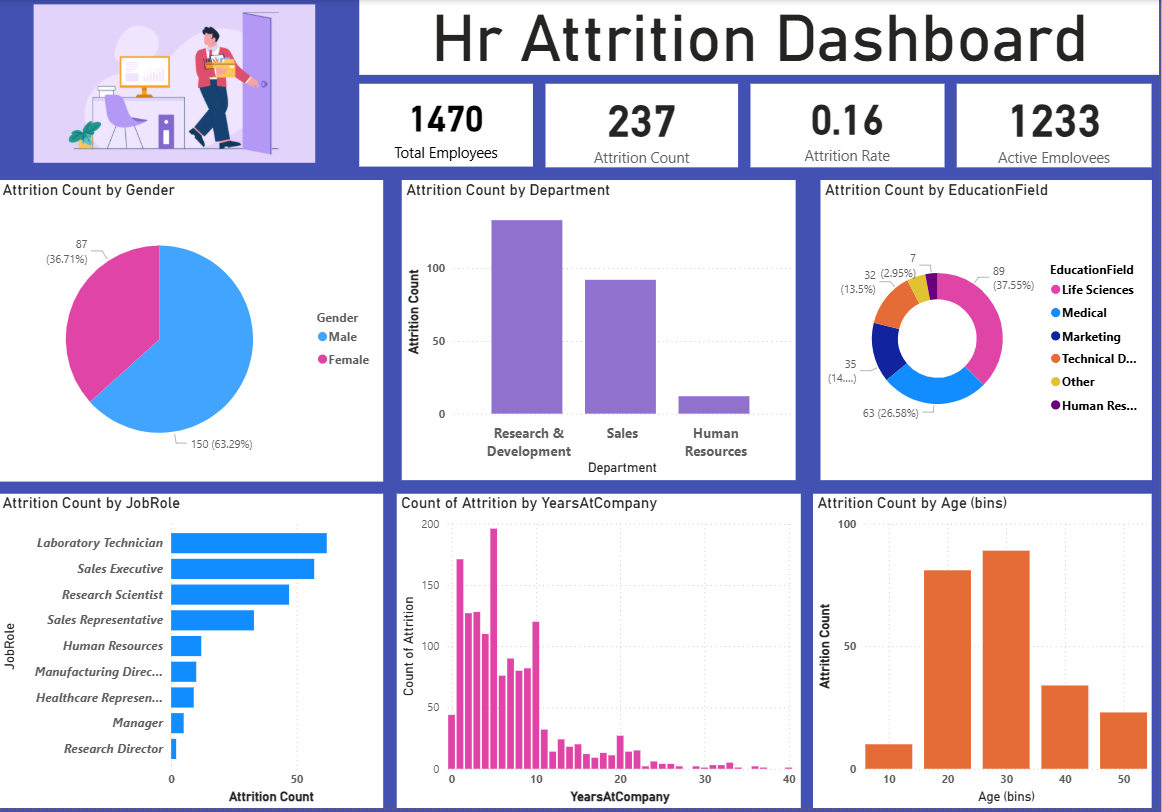

What the dashboard file says about the page in this screenshot:
{"tool":"powerbi","page":{"name":"Page 1","canvas":[1280,890],"ordinal":0},"visuals":[{"type":"card","fields":{"Values":["Hr Attrition.Total Employees"]},"box":[397.7,92.2,191.3,90.8],"z":0},{"type":"card","fields":{"Values":["Hr Attrition.Attrition Count"]},"box":[602.7,92.2,211.9,92.2],"z":1000},{"type":"card","fields":{"Values":["Hr Attrition.Attrition Rate"]},"box":[828.4,92.2,213.3,92.2],"z":2000},{"type":"card","fields":{"Values":["Hr Attrition.Active Employees"]},"box":[1055.4,92.2,214.7,92.2],"z":3000},{"type":"pieChart","fields":{"Category":["Hr Attrition.Gender"],"Y":["Hr Attrition.Attrition Count"]},"box":[0,198.1,423.8,331.6],"z":4000},{"type":"donutChart","fields":{"Y":["Hr Attrition.Attrition Count"],"Category":["Hr Attrition.EducationField"]},"box":[905.4,198.1,364.6,330.2],"z":5000},{"type":"columnChart","fields":{"Category":["Hr Attrition.Department"],"Y":["Hr Attrition.Attrition Count"]},"box":[444.5,198.1,433.4,330.2],"z":6000},{"type":"clusteredBarChart","fields":{"Category":["Hr Attrition.JobRole"],"Y":["Hr Attrition.Attrition Count"]},"box":[0,543.5,423.8,346.8],"z":7000},{"type":"lineStackedColumnComboChart","fields":{"Category":["Hr Attrition.YearsAtCompany"],"Y":["CountNonNull(Hr Attrition.Attrition)"]},"box":[438.9,543.5,444.5,346.8],"z":8000},{"type":"columnChart","fields":{"Category":["Hr Attrition.Age (bins)"],"Y":["Hr Attrition.Attrition Count"]},"box":[897.2,543.5,372.9,346.8],"z":9000},{"type":"image","box":[0,0,388,184.4],"z":9001},{"type":"textbox","title":"Hr Attrition Dashboard","box":[397.7,0,882,82.6],"z":9002}]}

Visuals, with their boxes in screenshot pixels (x1, y1, x2, y2), scaled from the page's 1280x890 canvas onto the 1162x812 screenshot:
card - Hr Attrition.Total Employees: 361, 84, 535, 167
card - Hr Attrition.Attrition Count: 547, 84, 740, 168
card - Hr Attrition.Attrition Rate: 752, 84, 946, 168
card - Hr Attrition.Active Employees: 958, 84, 1153, 168
pieChart - Hr Attrition.Gender x Hr Attrition.Attrition Count: 0, 181, 385, 483
donutChart - Hr Attrition.Attrition Count x Hr Attrition.EducationField: 822, 181, 1153, 482
columnChart - Hr Attrition.Department x Hr Attrition.Attrition Count: 404, 181, 797, 482
clusteredBarChart - Hr Attrition.JobRole x Hr Attrition.Attrition Count: 0, 496, 385, 811
lineStackedColumnComboChart - Hr Attrition.YearsAtCompany x CountNonNull(Hr Attrition.Attrition): 398, 496, 802, 811
columnChart - Hr Attrition.Age (bins) x Hr Attrition.Attrition Count: 814, 496, 1153, 811
image: 0, 0, 352, 168
"Hr Attrition Dashboard" textbox: 361, 0, 1161, 75
